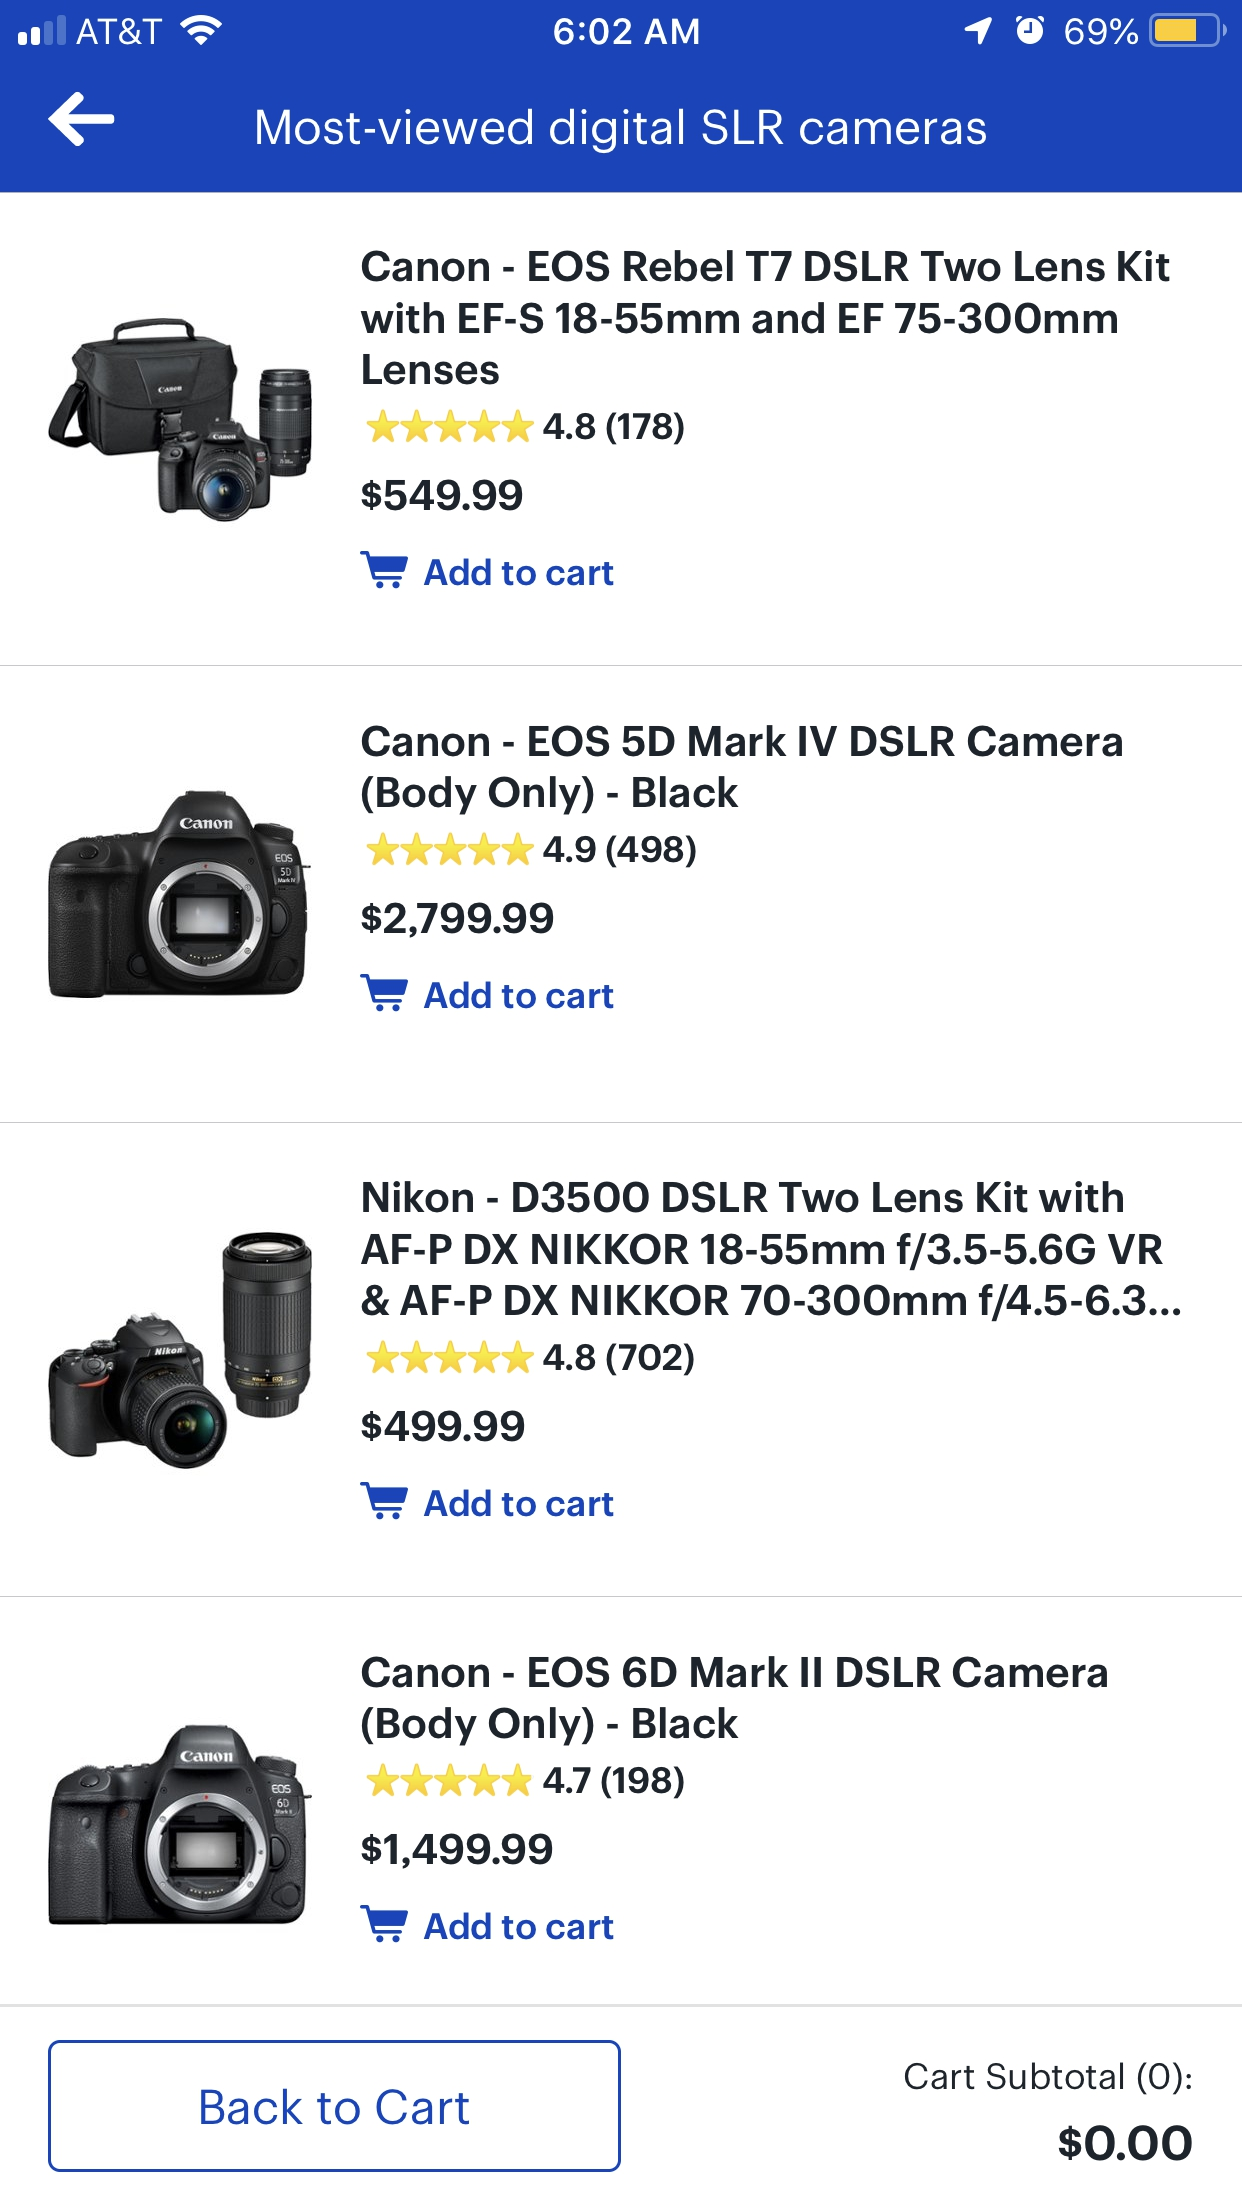Icon: (365, 1341, 535, 1375), (365, 833, 535, 867), (365, 409, 535, 444), (367, 1762, 532, 1797), (49, 93, 115, 149), (359, 1482, 409, 1521), (359, 550, 409, 590), (361, 974, 409, 1013), (359, 1905, 409, 1943)
Image: (49, 1231, 314, 1469), (47, 790, 312, 999), (49, 318, 312, 525), (49, 1724, 314, 1926)
Text: (361, 1181, 1181, 1322), (361, 250, 1171, 387), (362, 725, 1124, 816), (362, 1656, 1109, 1747), (256, 108, 987, 155), (905, 2062, 1192, 2096), (361, 902, 554, 939), (362, 1833, 554, 1870), (425, 558, 616, 587), (425, 981, 616, 1010), (425, 1488, 616, 1516), (425, 1911, 616, 1940), (361, 1410, 525, 1444), (362, 479, 525, 513), (543, 836, 698, 869), (1059, 2125, 1193, 2163), (543, 1344, 695, 1377), (543, 411, 685, 446), (543, 1765, 685, 1800)
TextButton: (49, 2040, 622, 2173)
UpperTaskBar: (2, 2, 1242, 49)
